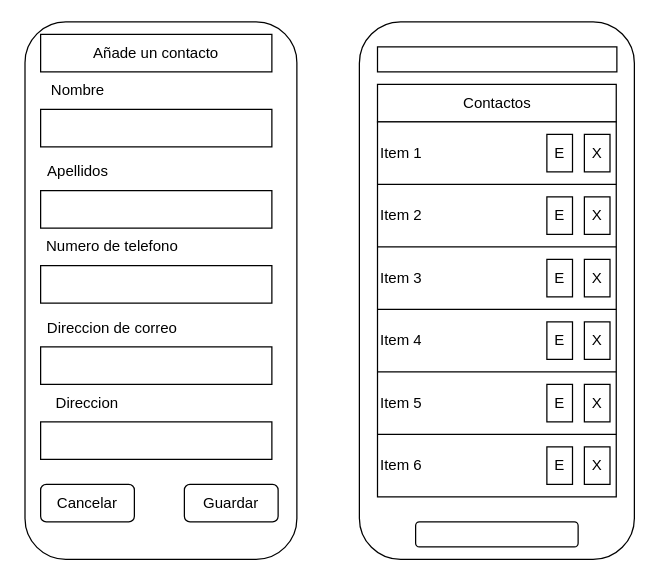
This 656x581 diagram has some shape labels left out. The shapes that lost their labels are listed below. From the top down, each one's box as (x1, y1, x2, y2) in pixels, then its label:
(376, 46, 617, 72): Buscar contacto...
(414, 521, 578, 547): Añadir contacto
